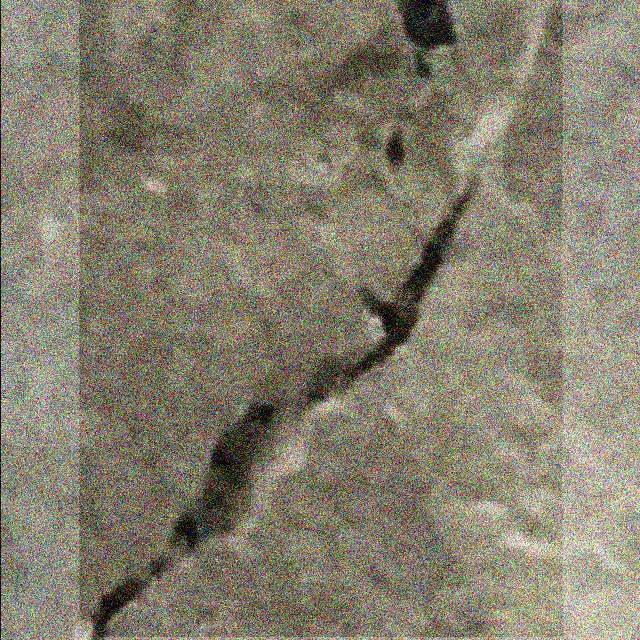SurfaceCrack: (80, 0, 542, 638)
